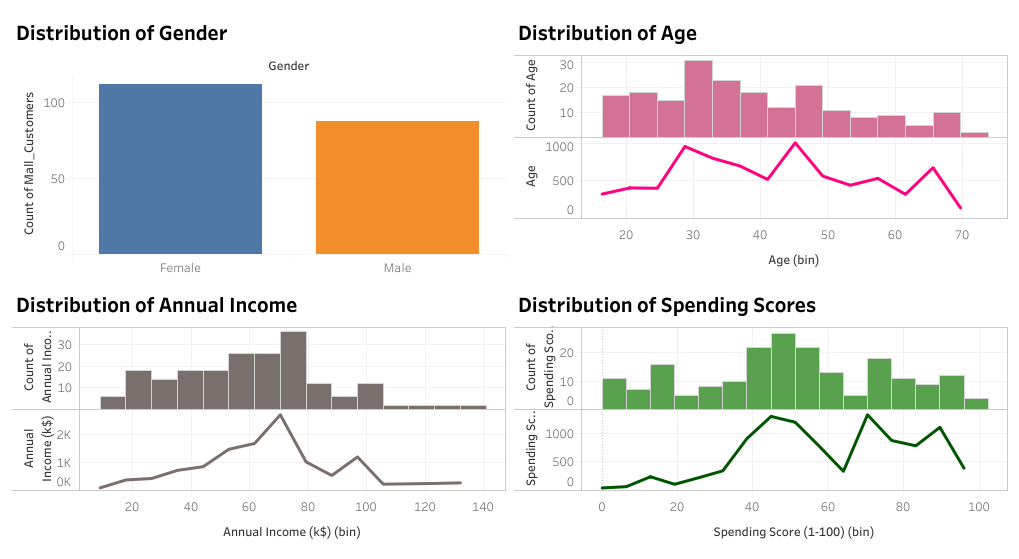

Layout of this report page (visuals, bound fields, positions):
{"tool":"tableau","page":{"name":"Dashboard 1","canvas":[1000,1000],"units":"permille","ordinal":0},"visuals":[{"type":"worksheet","title":"Sheet 1","mark":"Automatic","rows":["Mall!Customers_07D652A429BF46D19031A182D5A4DA7C"],"cols":["Gender"],"box":[7.8,13.5,492.2,486.5]},{"type":"worksheet","title":"Sheet 3","mark":"Automatic","rows":["Age","Age"],"cols":["Age (bin)"],"box":[500,13.5,492.2,486.5]},{"type":"worksheet","title":"Sheet 2","mark":"Automatic","rows":["Annual Income (k$)","Annual Income (k$)"],"cols":["Annual Income (k$) (bin)"],"box":[7.8,500,492.2,486.5]},{"type":"worksheet","title":"Sheet 4","mark":"Automatic","rows":["Spending Score (1-100)","Spending Score (1-100)"],"cols":["Spending Score (1-100) (bin)"],"box":[500,500,492.2,486.5]}]}

Visuals, with their boxes on the dashboard's canvas, which has no fixed pixel size, in thousandths of its width and height (x1, y1, x2, y2). These are canvas units, not pixel positions in the 1019x559 screenshot, which may show the page scaled, cropped or inside an application window:
"Sheet 1" worksheet: box=[8, 14, 500, 500]
"Sheet 3" worksheet: box=[500, 14, 992, 500]
"Sheet 2" worksheet: box=[8, 500, 500, 986]
"Sheet 4" worksheet: box=[500, 500, 992, 986]
